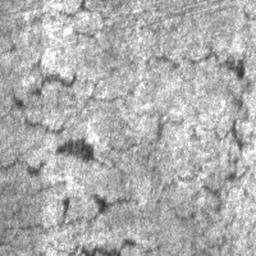Crazing: (0, 0, 254, 235), (57, 239, 137, 256), (73, 11, 110, 46), (0, 87, 27, 123), (226, 8, 251, 46), (194, 108, 201, 118)
